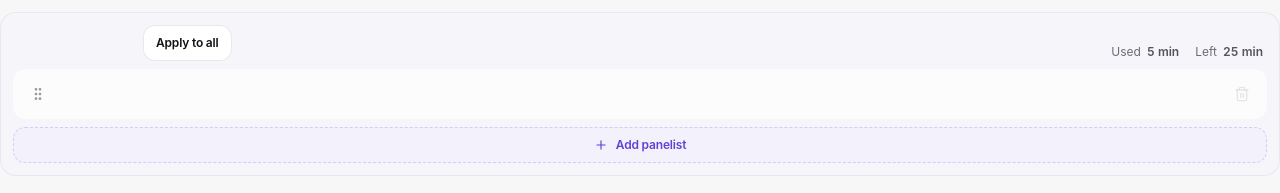
Test: agenda item presentation › explains what Apply to all changes
Step 1. Hover over the button "Apply to all" → (187, 43), box [143,25,232,61]
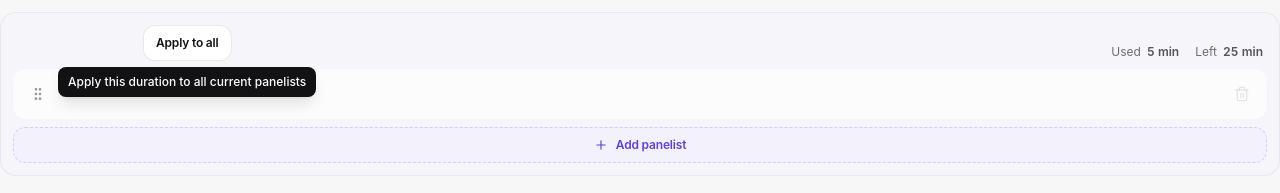
Check: the tooltip reads "Apply this duration to all current panelists", box [68,74,306,89]
